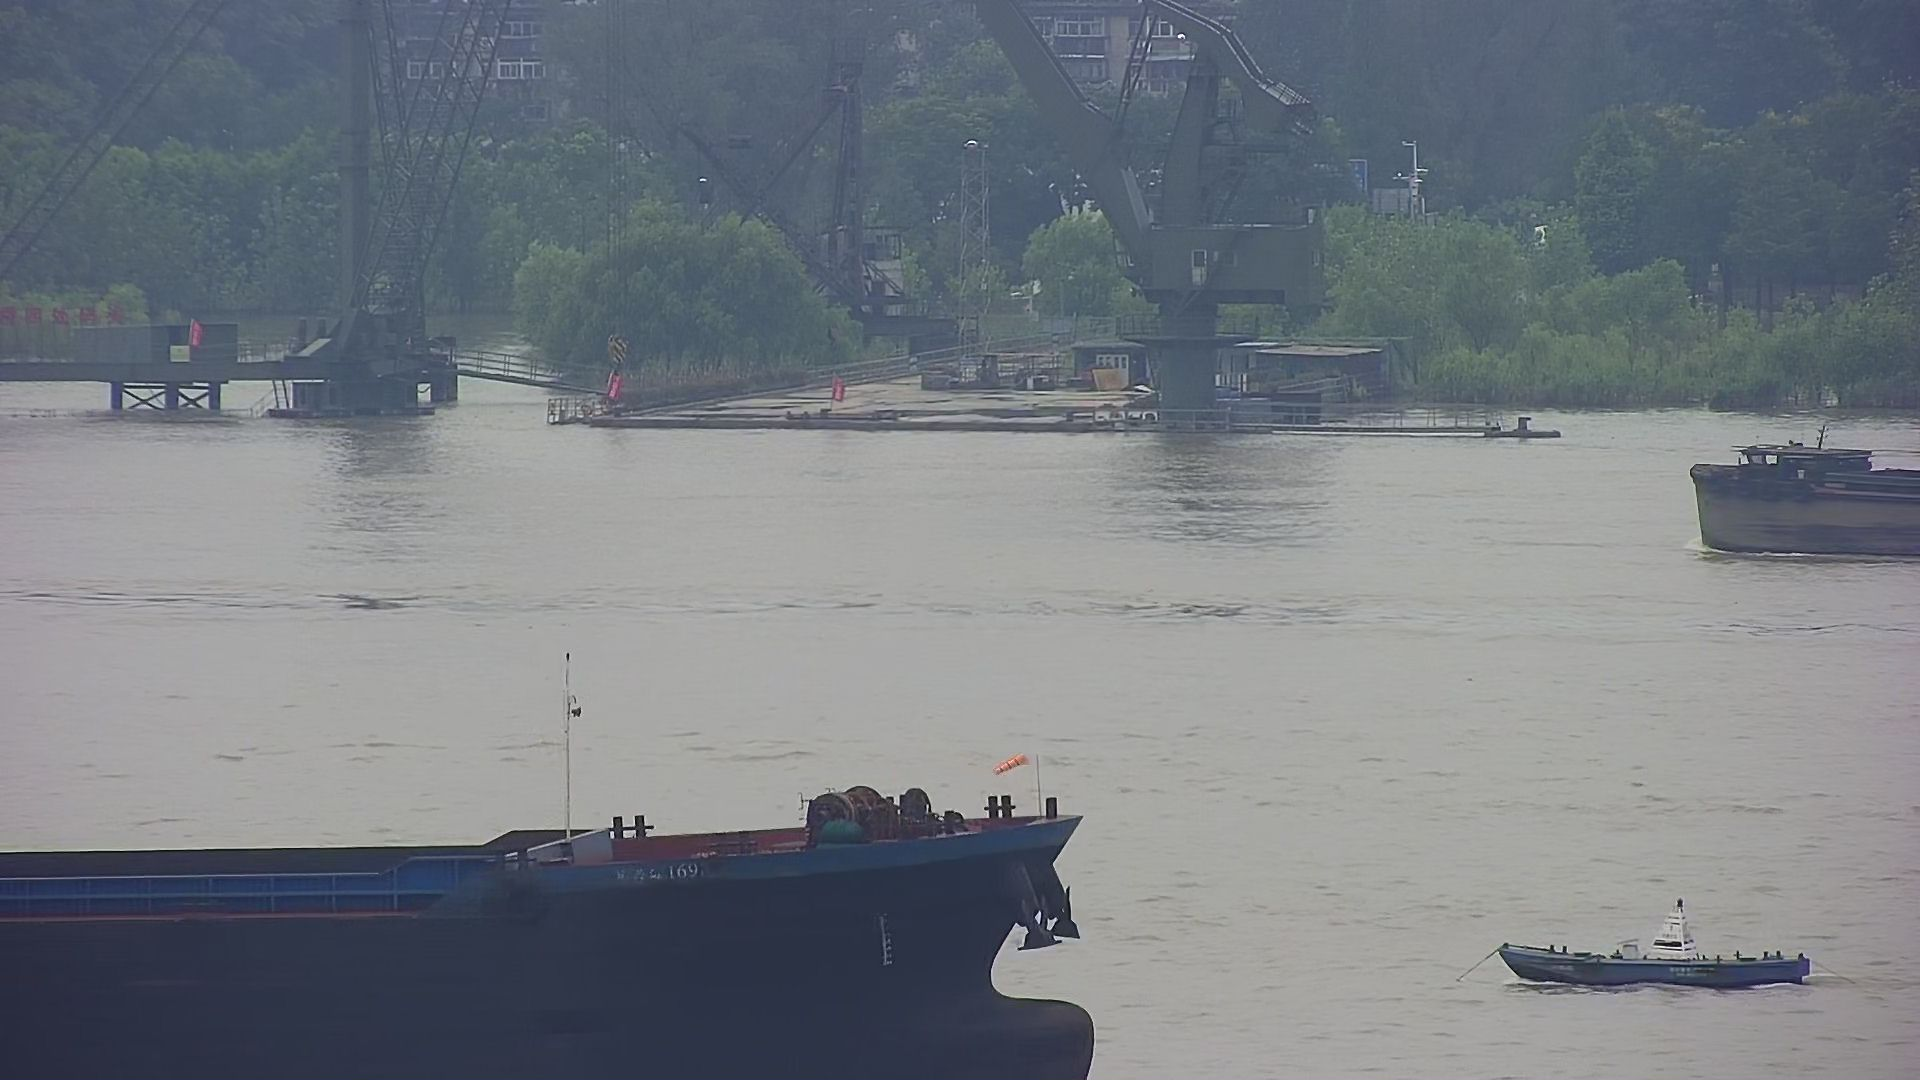boat: (1490, 894, 1804, 992)
platform: (1, 1, 480, 429)
ship: (1, 625, 1118, 1077), (1665, 414, 1919, 570)
